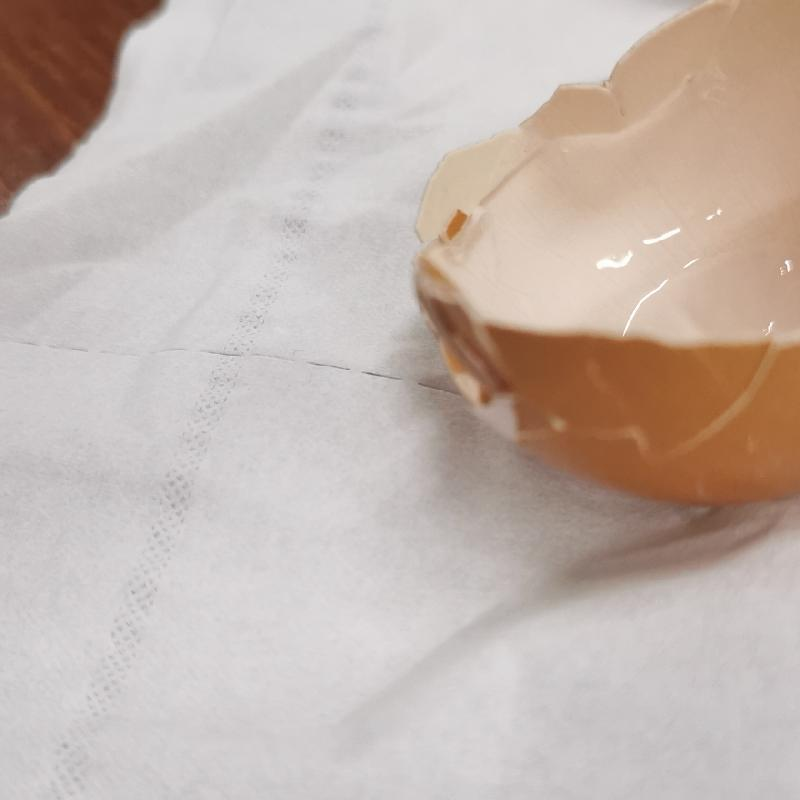eggshell: (419, 18, 800, 511)
